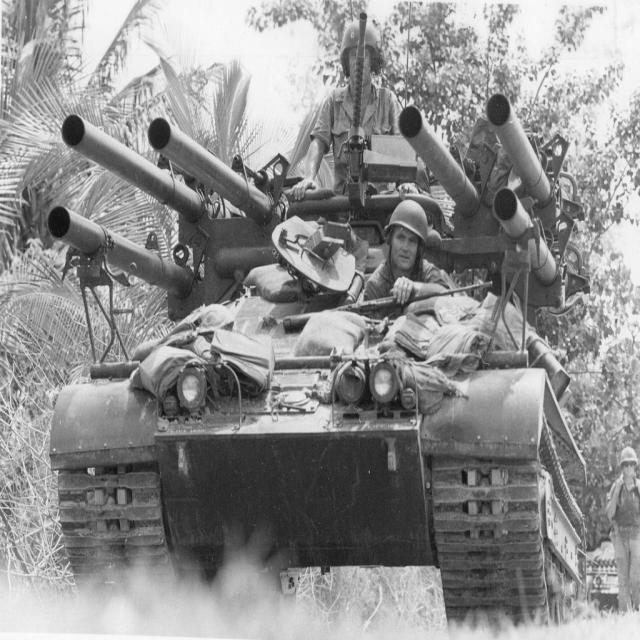tank: (48, 8, 590, 636)
